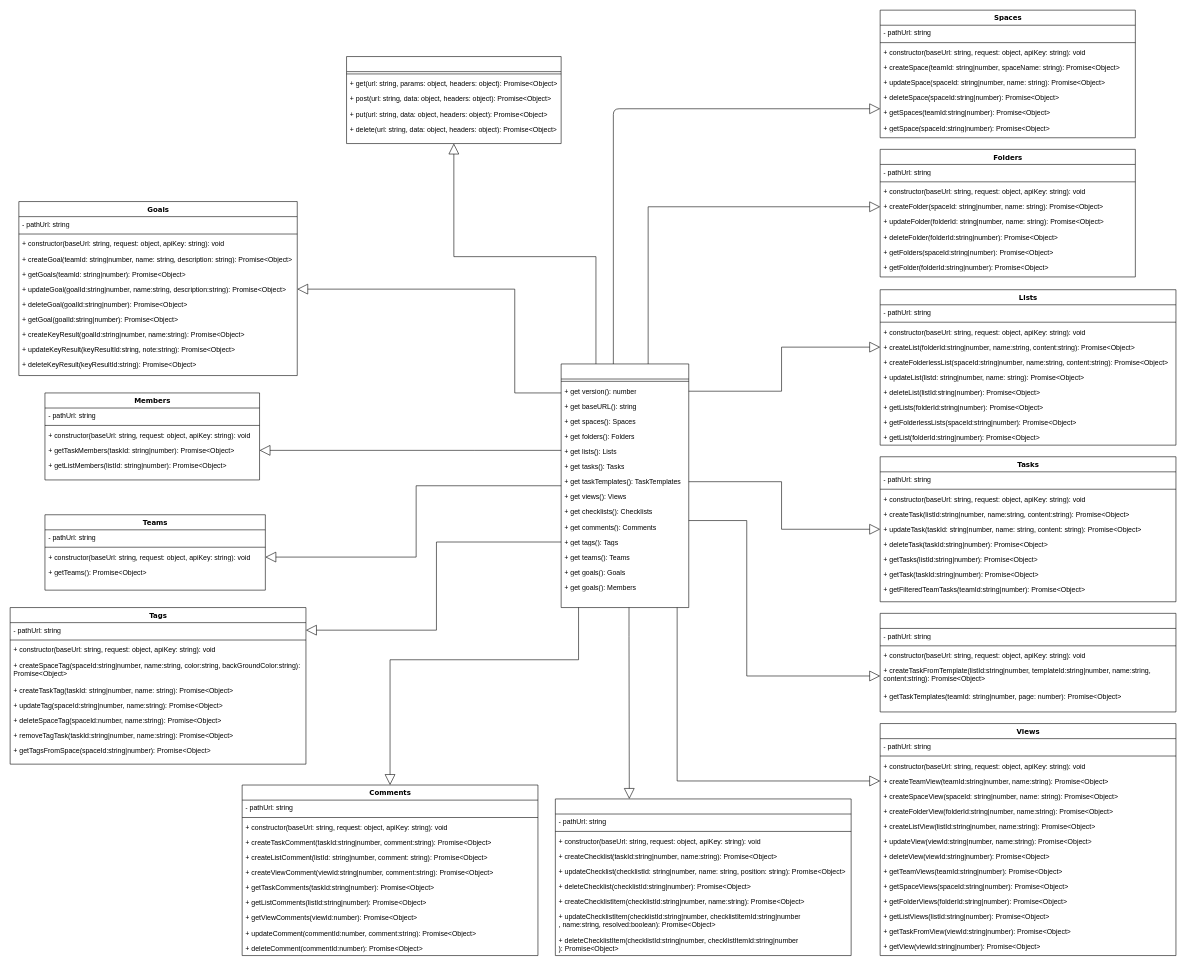
The diagram is 1186 pixels wide and 967 high, and some of its shapes have lost their labels. The box of each missing label's shape, as (x1, y1, x2, y2) in pixels:
CheckLists: (555, 798, 851, 956)
ClickUpApi: (561, 363, 689, 608)
SuperAgent: (346, 56, 561, 144)
TasksTemplates: (880, 613, 1176, 712)
